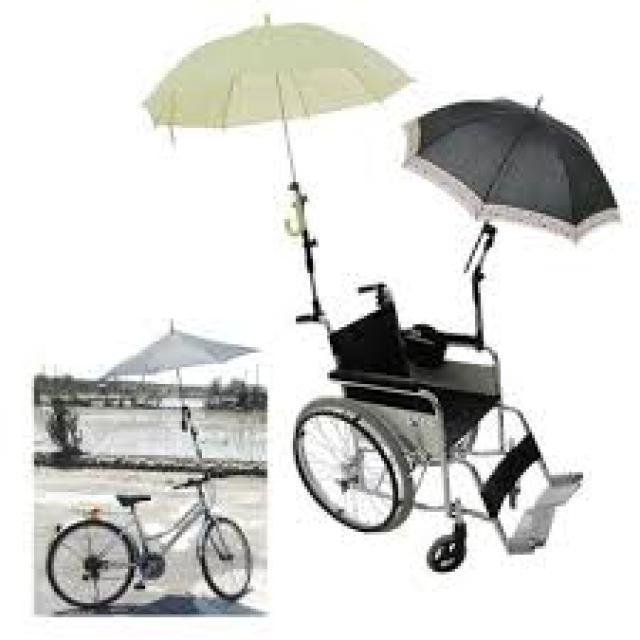wheelchair: (287, 276, 586, 583)
